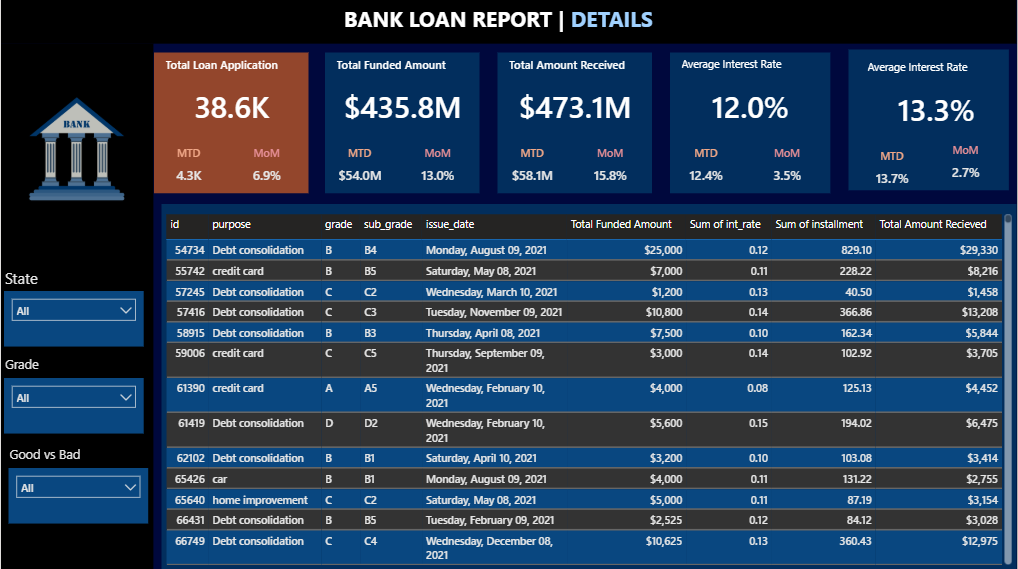

Layout of this report page (visuals, bound fields, positions):
{"tool":"powerbi","page":{"name":"Details","canvas":[1280,720],"ordinal":2},"visuals":[{"type":"shape","box":[0,54.8,192,665.2],"z":0},{"type":"shape","box":[1068.4,62.4,202.2,177.6],"z":0,"group":"g5"},{"type":"shape","box":[192.8,66.1,194.6,177.6],"z":0,"group":"g1"},{"type":"shape","box":[407.4,66.1,194.6,177.6],"z":0,"group":"g2"},{"type":"shape","box":[625.2,66.1,194.6,177.6],"z":0,"group":"g3"},{"type":"shape","box":[843,66.1,202.2,177.6],"z":0,"group":"g4"},{"type":"shape","box":[0,0,1279.4,55],"z":1000},{"type":"card","fields":{"Values":["Bank loan Data.Total Loan Application"]},"box":[202.2,111.5,175.7,43.5],"z":1000,"group":"g1"},{"type":"card","fields":{"Values":["Bank loan Data.Total Funded Amount"]},"box":[416.8,111.5,175.7,43.5],"z":1000,"group":"g2"},{"type":"card","fields":{"Values":["Bank loan Data.Total Amount Recieved"]},"box":[634.6,111.5,175.7,43.5],"z":1000,"group":"g3"},{"type":"card","fields":{"Values":["Bank loan Data.Average int rate"]},"box":[852.8,111.5,182.6,43.5],"z":1000,"group":"g4"},{"type":"card","fields":{"Values":["Bank loan Data.Average DTI"]},"box":[1087,115.3,182.6,43.5],"z":1000,"group":"g5"},{"type":"textbox","box":[202.2,66.1,177.6,47.2],"z":2000,"group":"g1"},{"type":"textbox","box":[416.8,66.1,177.6,47.2],"z":2000,"group":"g2"},{"type":"textbox","box":[634.6,66.1,177.6,47.2],"z":2000,"group":"g3"},{"type":"textbox","box":[852.8,66.1,184.5,47.2],"z":2000,"group":"g4"},{"type":"textbox","box":[1087,70,184.5,47.2],"z":2000,"group":"g5"},{"type":"shape","box":[202.2,257,1077.2,463],"z":2000},{"type":"textbox","box":[0,270.6,183.3,41.6],"z":2000,"group":"g6"},{"type":"textbox","box":[0,400.8,183.3,41.6],"z":2000,"group":"g7"},{"type":"textbox","box":[5.7,544.4,183.3,41.6],"z":2000,"group":"g8"},{"type":"textbox","box":[427.1,0,523.5,54.8],"z":3000},{"type":"card","title":"MTD","fields":{"Values":["Bank loan Data.MTD Loan Application"]},"box":[192.8,183.3,86.9,60.5],"z":3000,"group":"g1"},{"type":"card","title":"MTD","fields":{"Values":["Bank loan Data.MTD Funded Amount"]},"box":[407.4,183.3,86.9,60.5],"z":3000,"group":"g2"},{"type":"card","title":"MTD","fields":{"Values":["Bank loan Data.MTD Amount Recieved"]},"box":[625.2,183.3,86.9,60.5],"z":3000,"group":"g3"},{"type":"card","title":"MTD","fields":{"Values":["Bank loan Data.MTD AVG INT Rate"]},"box":[843,183.3,90.3,60.5],"z":3000,"group":"g4"},{"type":"card","title":"MTD","fields":{"Values":["Bank loan Data.MTD AVG DTI"]},"box":[1077.2,187.1,90.3,60.5],"z":3000,"group":"g5"},{"type":"group","id":"g1","title":"Group 1","box":[192.8,66.1,194.6,177.6],"z":4000},{"type":"card","title":"MoM","fields":{"Values":["Bank loan Data.MoM AVG DTI"]},"box":[1170.5,179.6,90.3,60.5],"z":4000,"group":"g5"},{"type":"card","title":"MoM","fields":{"Values":["Bank loan Data.MoM Loan Application"]},"box":[291.1,183.3,86.9,60.5],"z":4000,"group":"g1"},{"type":"card","title":"MoM","fields":{"Values":["Bank loan Data.MoM Total Funded Amount"]},"box":[505.7,183.3,86.9,60.5],"z":4000,"group":"g2"},{"type":"card","title":"MoM","fields":{"Values":["Bank loan Data.MoM Total Amount Recieved"]},"box":[723.5,183.3,86.9,60.5],"z":4000,"group":"g3"},{"type":"card","title":"MoM","fields":{"Values":["Bank loan Data.MoM AVG INT Rate"]},"box":[945.1,183.3,90.3,60.5],"z":4000,"group":"g4"},{"type":"group","id":"g2","title":"Group 1","box":[407.4,66.1,194.6,177.6],"z":5000},{"type":"group","id":"g3","title":"Group 1","box":[625.2,66.1,194.6,177.6],"z":6000},{"type":"group","id":"g4","title":"Group 1","box":[843,66.1,202.2,177.6],"z":7000},{"type":"group","id":"g5","title":"Group 1","box":[1068.4,62.4,203.2,185.2],"z":8000},{"type":"group","id":"g6","title":"Group 2","box":[0,270.6,183.3,103.9],"z":9000},{"type":"group","id":"g7","title":"Group 2","box":[0,400.8,183.3,103.9],"z":10000},{"type":"group","id":"g8","title":"Group 2","box":[5.7,544.4,183.3,103.9],"z":11000},{"type":"tableEx","fields":{"Values":["Bank loan Data.id","Bank loan Data.purpose","Bank loan Data.grade","Bank loan Data.sub_grade","Bank loan Data.issue_date","Bank loan Data.Total Funded Amount","Sum(Bank loan Data.int_rate)","Sum(Bank loan Data.installment)","Bank loan Data.Total Amount Recieved"]},"box":[203,264.1,1076.3,451.4],"z":12000},{"type":"image","box":[3.8,52.9,183.3,155],"z":13000},{"type":"slicer","fields":{"Values":["Bank loan Data.address_state"]},"box":[3.8,304.6,175.7,69.9],"z":19002,"group":"g6"},{"type":"slicer","fields":{"Values":["Bank loan Data.grade"]},"box":[3.8,434.8,175.7,69.9],"z":19002,"group":"g7"},{"type":"slicer","fields":{"Values":["Bank loan Data.Good vs Bad"]},"box":[9.5,578.4,175.7,69.9],"z":19002,"group":"g8"}]}

Visuals, with their boxes in screenshot pixels (x1, y1, x2, y2), scaled from the page's 1280x720 canvas onto the 1018x569 screenshot:
shape: [0, 43, 153, 568]
shape: [850, 49, 1011, 190]
shape: [153, 52, 308, 193]
shape: [324, 52, 479, 193]
shape: [497, 52, 652, 193]
shape: [670, 52, 831, 193]
shape: [0, 0, 1017, 43]
card - Bank loan Data.Total Loan Application: [161, 88, 301, 122]
card - Bank loan Data.Total Funded Amount: [331, 88, 471, 122]
card - Bank loan Data.Total Amount Recieved: [505, 88, 644, 122]
card - Bank loan Data.Average int rate: [678, 88, 823, 122]
card - Bank loan Data.Average DTI: [865, 91, 1010, 125]
textbox: [161, 52, 302, 90]
textbox: [331, 52, 473, 90]
textbox: [505, 52, 646, 90]
textbox: [678, 52, 825, 90]
textbox: [865, 55, 1011, 93]
shape: [161, 203, 1017, 568]
textbox: [0, 214, 146, 247]
textbox: [0, 317, 146, 350]
textbox: [5, 430, 150, 463]
textbox: [340, 0, 756, 43]
"MTD" card: [153, 145, 222, 193]
"MTD" card: [324, 145, 393, 193]
"MTD" card: [497, 145, 566, 193]
"MTD" card: [670, 145, 742, 193]
"MTD" card: [857, 148, 929, 196]
"Group 1" group: [153, 52, 308, 193]
"MoM" card: [931, 142, 1003, 190]
"MoM" card: [232, 145, 301, 193]
"MoM" card: [402, 145, 471, 193]
"MoM" card: [575, 145, 645, 193]
"MoM" card: [752, 145, 823, 193]
"Group 1" group: [324, 52, 479, 193]
"Group 1" group: [497, 52, 652, 193]
"Group 1" group: [670, 52, 831, 193]
"Group 1" group: [850, 49, 1011, 196]
"Group 2" group: [0, 214, 146, 296]
"Group 2" group: [0, 317, 146, 399]
"Group 2" group: [5, 430, 150, 512]
tableEx - Bank loan Data.id x Bank loan Data.purpose: [161, 209, 1017, 565]
image: [3, 42, 149, 164]
slicer - Bank loan Data.address_state: [3, 241, 143, 296]
slicer - Bank loan Data.grade: [3, 344, 143, 399]
slicer - Bank loan Data.Good vs Bad: [8, 457, 147, 512]
